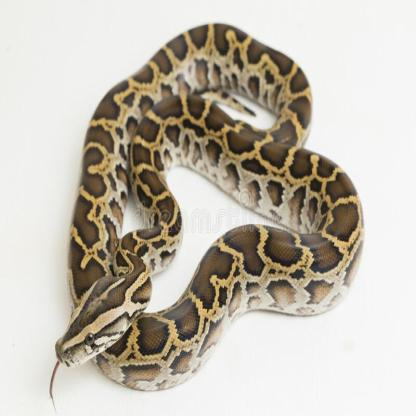Snake: (50, 13, 371, 398)
